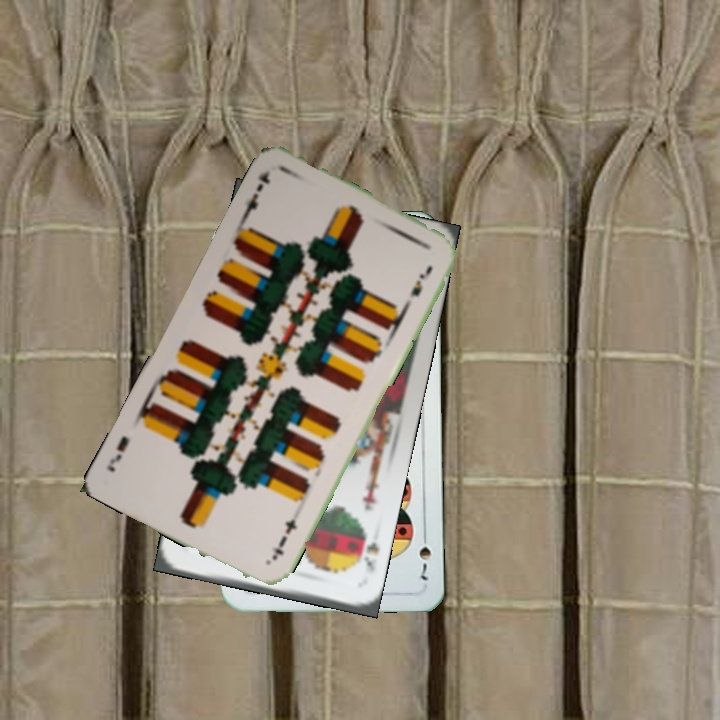E7: (239, 165, 273, 221), (267, 514, 300, 563)
S7: (415, 526, 434, 583)
SK: (351, 527, 382, 574)
